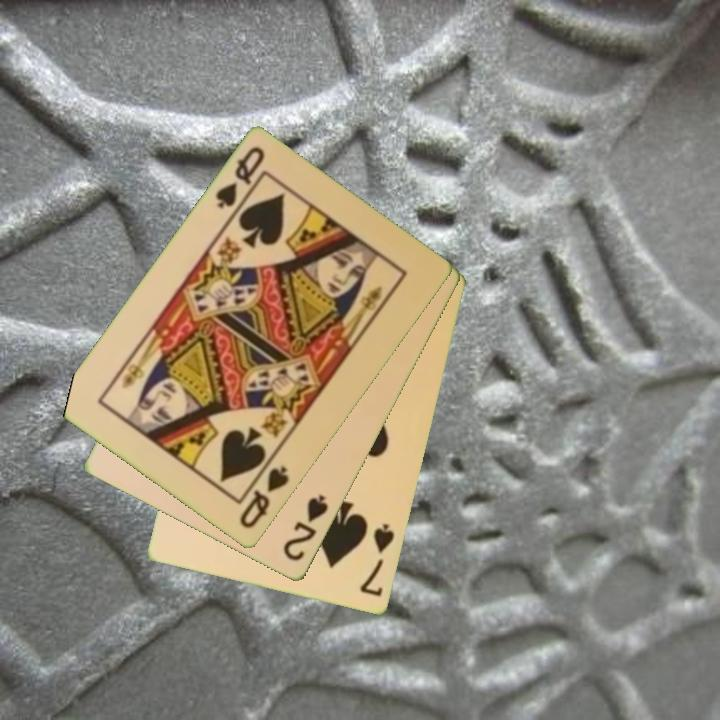2s: (279, 491, 332, 565)
7s: (357, 520, 398, 600)
Qs: (212, 143, 268, 220), (236, 463, 293, 532)
